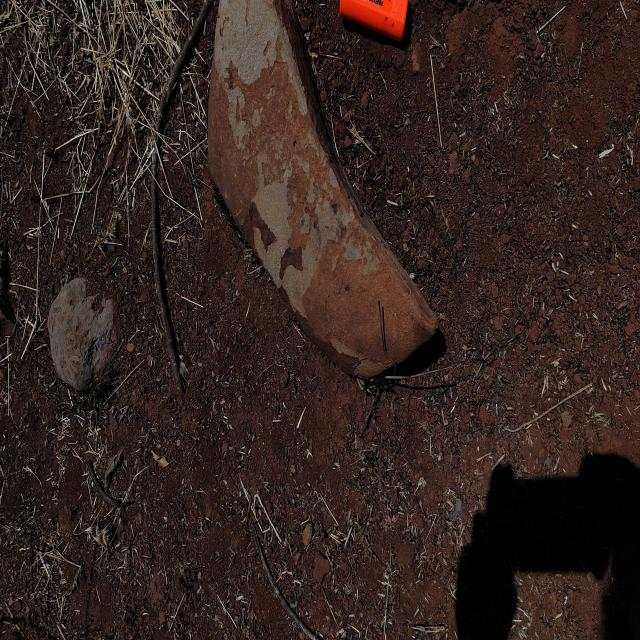Orange_hammer: (333, 0, 408, 44)
